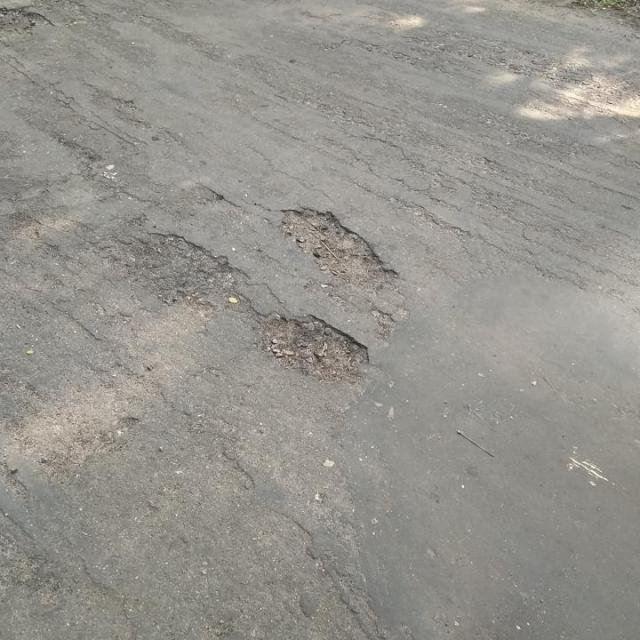Pothole: (277, 201, 405, 291), (118, 229, 257, 311), (259, 310, 376, 389)
